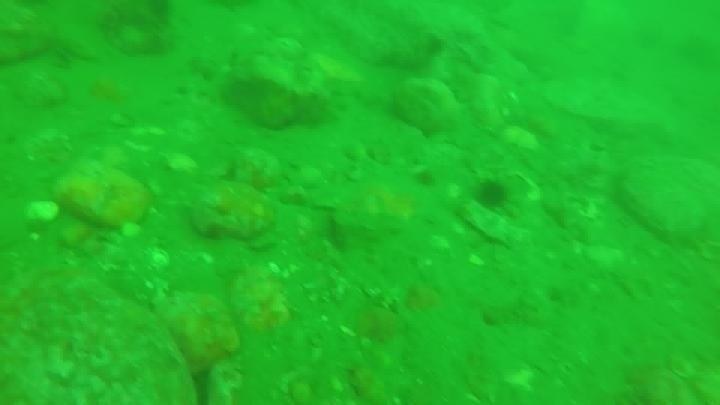echinus: (473, 177, 511, 212)
scallop: (499, 124, 541, 154)
